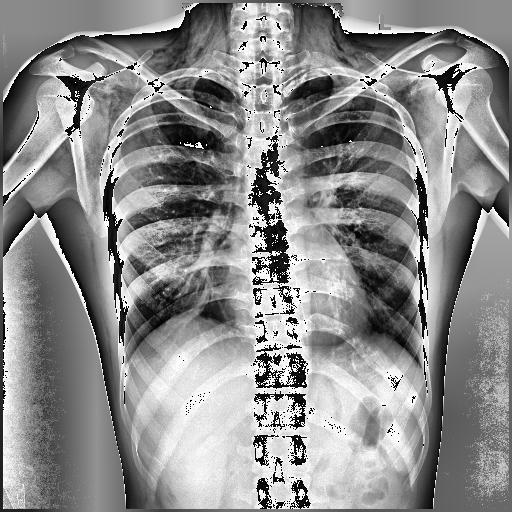11- Pleural thickening: (158, 76, 232, 94)
3- Cardiomegaly: (211, 280, 370, 341)
9- Other lesion: (85, 12, 236, 147), (98, 5, 236, 122), (318, 2, 424, 110), (141, 4, 231, 74), (302, 8, 380, 66), (322, 19, 386, 70)
